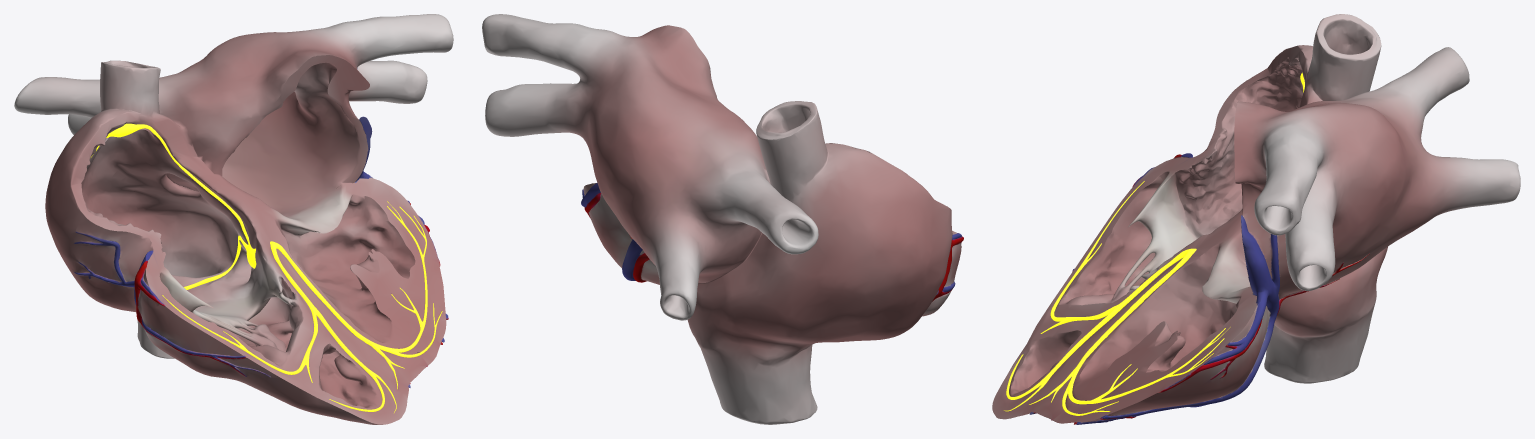
Rendered from sistema-conduccion-cardiaco.glb.
The picture shows the model from 3 angles, left to right: view 1: azimuth 30°, elevation 25°; view 2: azimuth 150°, elevation 25°; view 3: azimuth 270°, elevation 25°; orthographic projection. The views are drawn at different scales.
Parts seen in each view (by area): view 1: Default2_Default2_0, Default1_Default1_0; view 2: Default2_Default2_0; view 3: Default2_Default2_0, Default1_Default1_0.
Boxes of the visible parts, x1,y1,x2,y2 form: Default2_Default2_0: [14, 14, 453, 424]; Default1_Default1_0: [91, 123, 442, 412]; Default2_Default2_0: [482, 14, 963, 424]; Default2_Default2_0: [992, 14, 1520, 424]; Default1_Default1_0: [1004, 72, 1304, 415].
Bounding box in the file's own units: 4.66 × 3.24 × 4.7.
